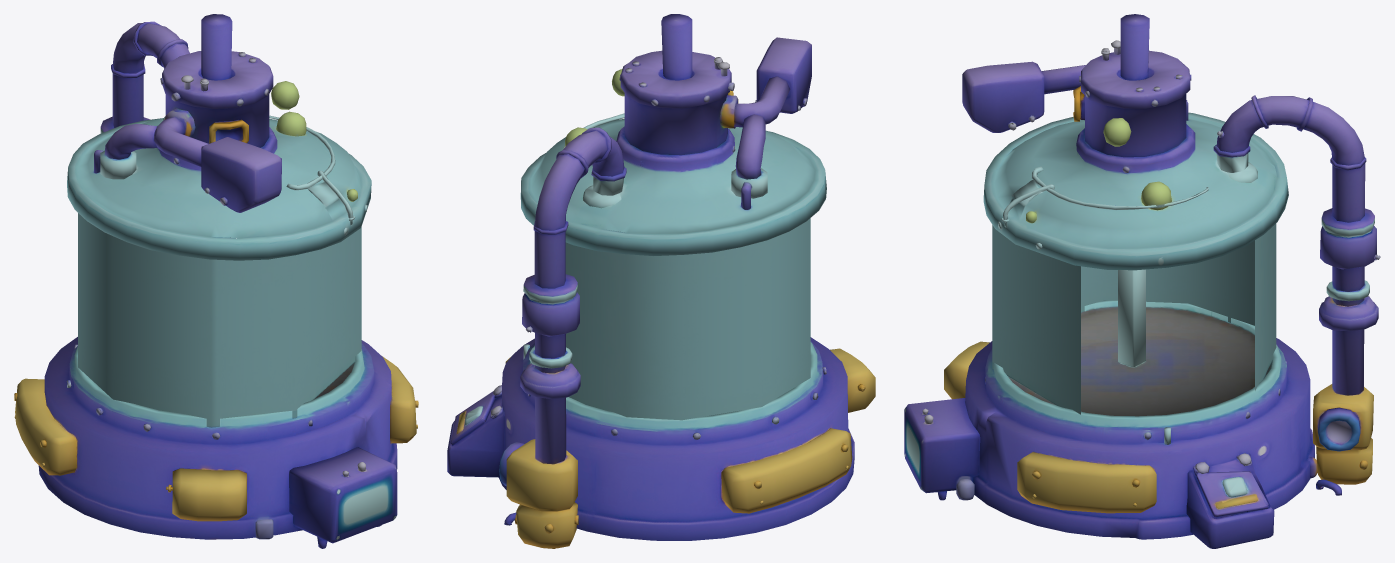
3 renders of one model, left to right at view 1: azimuth 30°, elevation 25°; view 2: azimuth 150°, elevation 25°; view 3: azimuth 270°, elevation 25°, orthographic.
Visible parts, largest first — view 1: tripo_node_900e2591; view 2: tripo_node_900e2591; view 3: tripo_node_900e2591.
Part boxes in pixels (left/top/right/bottom): tripo_node_900e2591: left=14, top=14, right=418, bottom=548; tripo_node_900e2591: left=447, top=14, right=875, bottom=548; tripo_node_900e2591: left=904, top=14, right=1380, bottom=548.
Bounding box in the file's own units: 0.8262 × 0.998 × 0.9629.
Materials: 1 (1 with a texture image).
